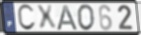2: (118, 4, 135, 32)
6: (98, 4, 115, 32)
A: (56, 4, 80, 31)
C: (17, 3, 37, 32)
O: (76, 4, 96, 32)
X: (35, 4, 58, 31)
